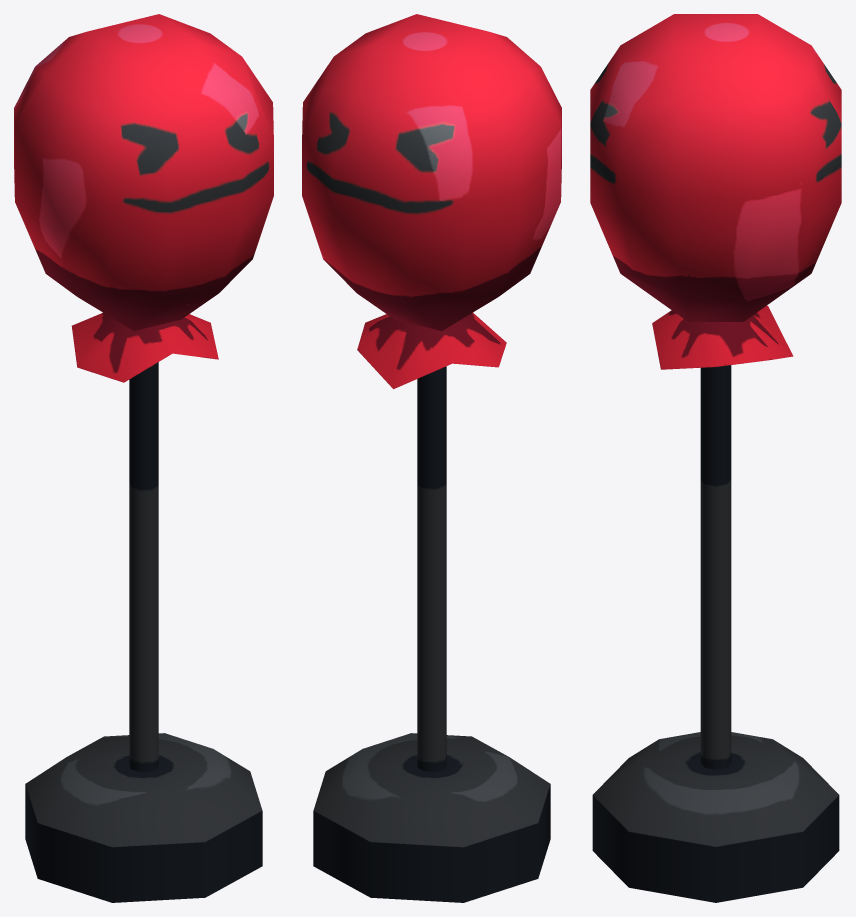
Rendered from Clone 1.fbx.
3 views of the same model, side by side, from view 1: azimuth 30°, elevation 25°; view 2: azimuth 150°, elevation 25°; view 3: azimuth 270°, elevation 25° (orthographic).
Visible parts, largest first — view 1: Clone; view 2: Clone; view 3: Clone.
Part boxes in pixels (<box>): Clone: <box>14,14,273,902</box>; Clone: <box>302,14,561,902</box>; Clone: <box>590,14,841,902</box>.
Size of the model in its own units: 61.09 by 220 by 61.09.
1 material, 1 textured.
